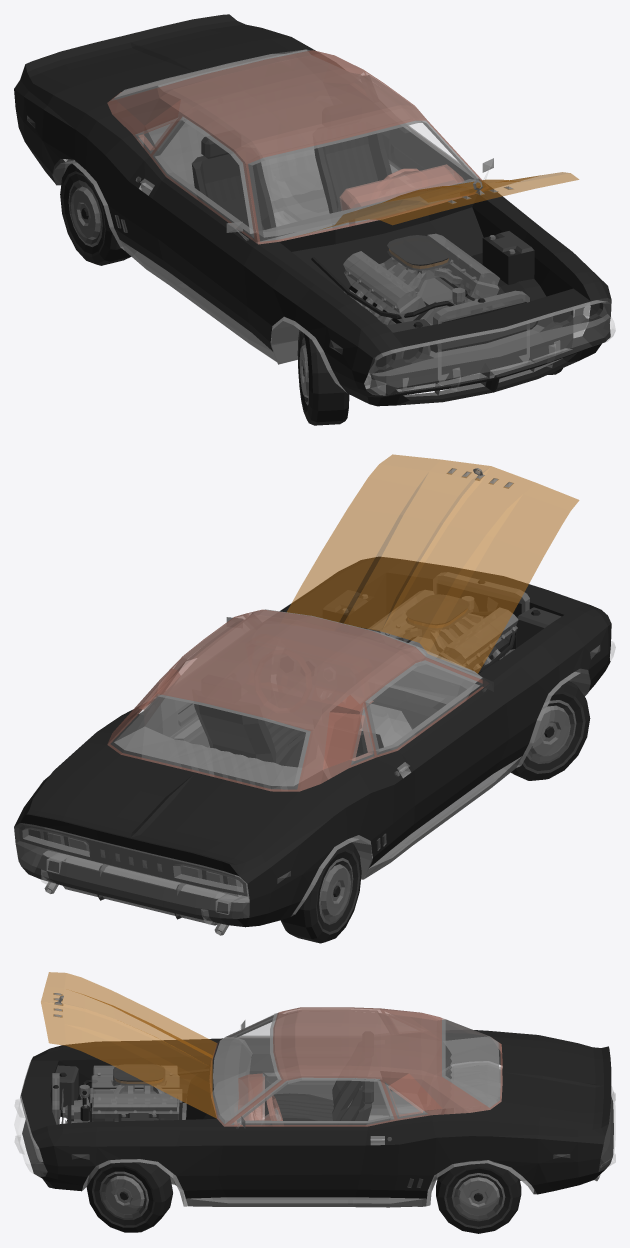
Rendered from 1972-bursley-defiance.fbx.
3 renders of one model, top to bottom at view 1: azimuth 30°, elevation 25°; view 2: azimuth 150°, elevation 25°; view 3: azimuth 270°, elevation 25°, orthographic. The views are drawn at different scales.
Parts seen in each view (by area): view 1: Body, Trunk, Engine, Hood, Engine_Details, Chair_Left, Wheel RR, Chair_Right, Wheel FR, Dashboard, Cables; view 2: Body, Hood, Trunk, Engine, Wheel RR, Engine_Details, Chair_Right, Wheel FR, Chassis, Chair_Left; view 3: Body, Hood, Trunk, Engine, Wheel RL, Wheel FL, Chair_Left, Engine_Details, Dashboard, Chair_Right.
Part boxes in pixels (bbox=[...]): Body: bbox=[14, 14, 615, 406]; Trunk: bbox=[32, 15, 292, 102]; Engine: bbox=[343, 233, 499, 325]; Hood: bbox=[304, 172, 578, 234]; Engine_Details: bbox=[386, 231, 534, 382]; Chair_Left: bbox=[192, 136, 276, 240]; Wheel RR: bbox=[60, 161, 131, 265]; Chair_Right: bbox=[314, 130, 391, 227]; Wheel FR: bbox=[297, 327, 349, 425]; Dashboard: bbox=[339, 164, 464, 225]; Cables: bbox=[311, 257, 454, 318]; Body: bbox=[14, 557, 615, 927]; Hood: bbox=[287, 454, 579, 673]; Trunk: bbox=[32, 745, 298, 870]; Engine: bbox=[367, 590, 518, 670]; Wheel RR: bbox=[280, 840, 361, 943]; Engine_Details: bbox=[323, 572, 561, 649]; Chair_Right: bbox=[194, 702, 309, 787]; Wheel FR: bbox=[511, 679, 590, 780]; Chassis: bbox=[44, 853, 248, 935]; Chair_Left: bbox=[325, 706, 407, 772]; Body: bbox=[14, 1007, 615, 1207]; Hood: bbox=[41, 972, 216, 1118]; Trunk: bbox=[490, 1036, 611, 1124]; Engine: bbox=[60, 1064, 182, 1123]; Wheel RL: bbox=[436, 1160, 521, 1233]; Wheel FL: bbox=[86, 1159, 172, 1232]; Chair_Left: bbox=[265, 1078, 362, 1124]; Engine_Details: bbox=[52, 1065, 158, 1124]; Dashboard: bbox=[234, 1073, 282, 1126]; Chair_Right: bbox=[338, 1079, 373, 1124].
Size of the model in its own units: 201 by 172 by 486.
